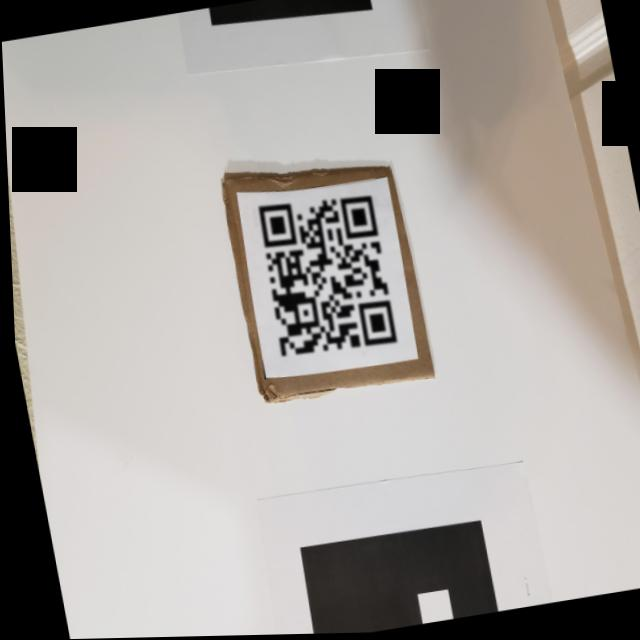QR_CODE: (246, 179, 404, 374)
